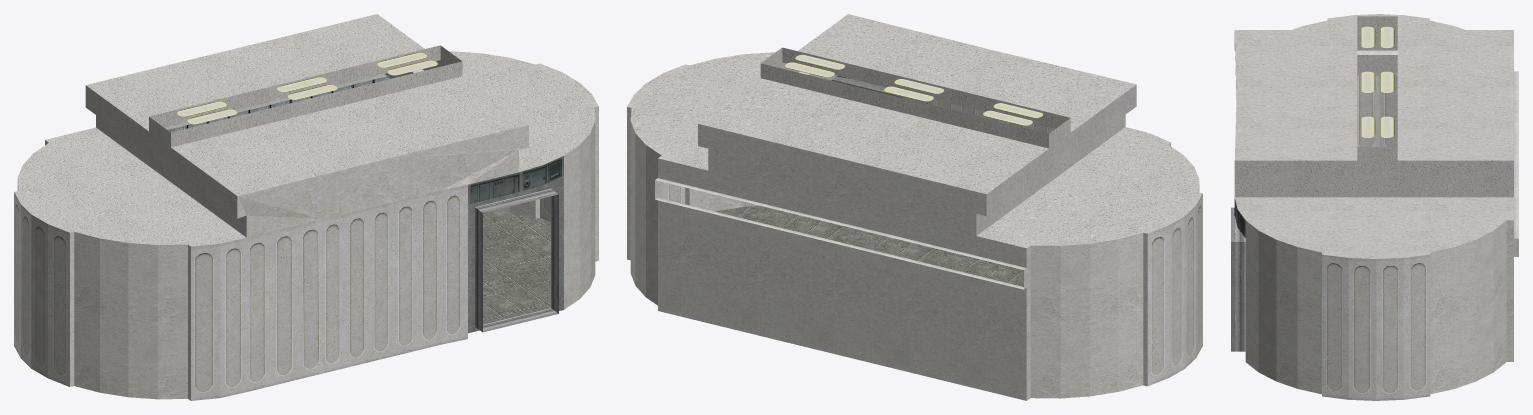
File: ply_corl_house_sm_s02_fp2_r3_mainroom_mesh.fbx
The picture shows the model from 3 angles, left to right: view 1: azimuth 30°, elevation 25°; view 2: azimuth 150°, elevation 25°; view 3: azimuth 270°, elevation 25°; orthographic projection. The views are drawn at different scales.
Parts seen in each view (by area): view 1: mesh_node; view 2: mesh_node; view 3: mesh_node.
Boxes of the visible parts, x1,y1,x2,y2 form: mesh_node: [14, 14, 598, 400]; mesh_node: [627, 14, 1202, 400]; mesh_node: [1231, 14, 1518, 400].
Bounding box in the file's own units: 14.36 × 5.38 × 7.12.
